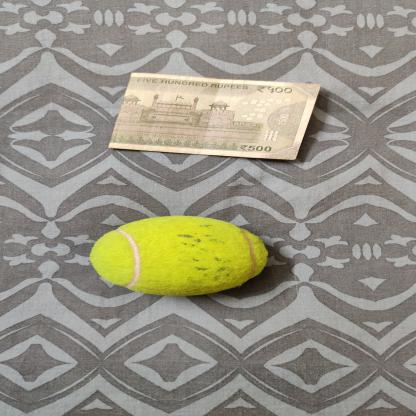New500Back: (107, 70, 324, 162)
